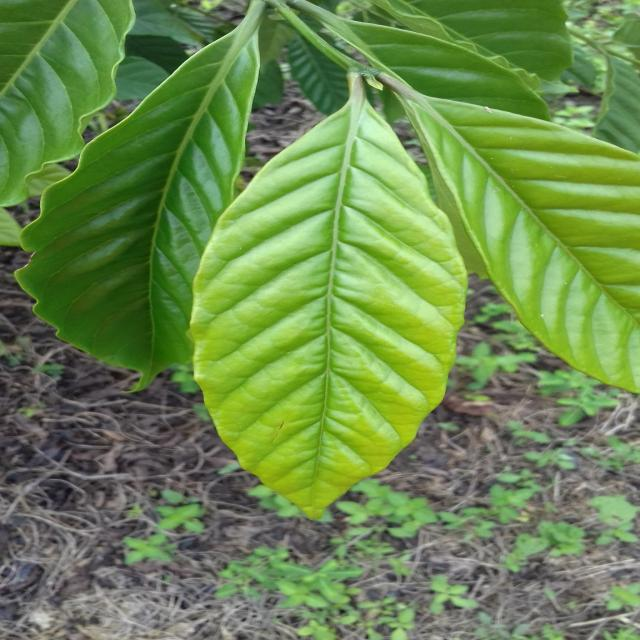Sanas: (188, 75, 467, 521)
